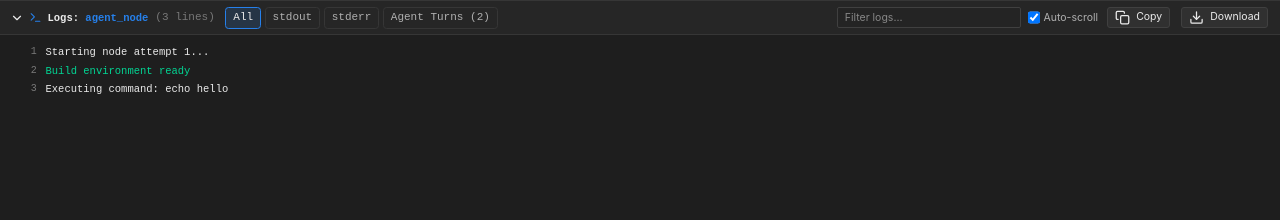
Test: LogsPanel component (Task 6.4) › renders Agent Turns tab with turn records from agent_turns.json (FEAT-AGT-1b)
Click the tab with test id "logs-tab-agent_turns": click(440, 18) [383, 6, 498, 28]
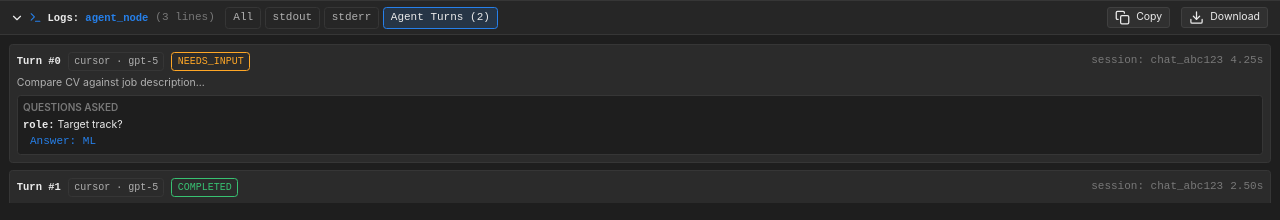
Check: the element with test id "agent-turn-card-0" is shown, box [9, 44, 1271, 163]
Check: the text with test id "agent-turn-status-0" reads "needs_input", box [178, 56, 244, 66]
Check: the text "Target track?" is shown, box [58, 118, 122, 131]
